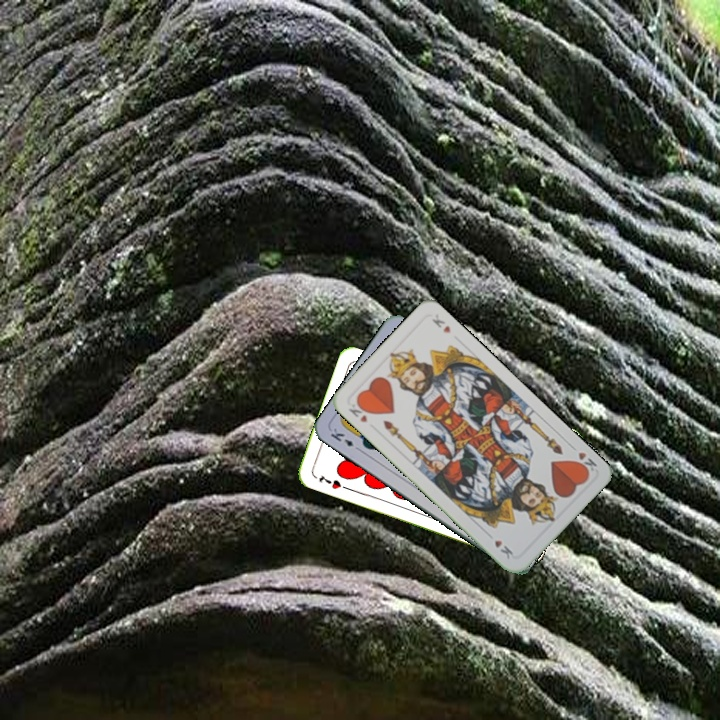EK: (326, 424, 364, 454)
H7: (315, 471, 344, 492)
HK: (566, 441, 600, 478), (345, 397, 372, 425)
